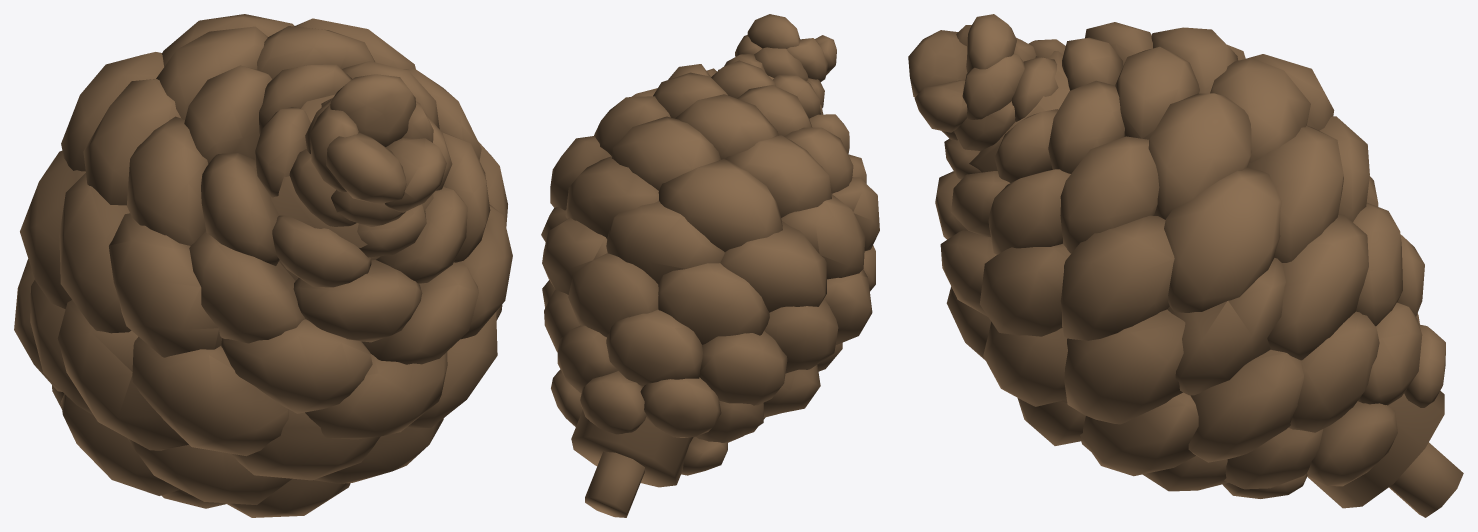
The model's file is pinecone_0.glb.
3 renders of one model, left to right at view 1: azimuth 30°, elevation 25°; view 2: azimuth 150°, elevation 25°; view 3: azimuth 270°, elevation 25°, orthographic. The views are drawn at different scales.
Parts seen in each view (by area): view 1: pinecone_0; view 2: pinecone_0; view 3: pinecone_0.
Boxes of the visible parts, bbox=[...] form: pinecone_0: bbox=[14, 14, 512, 517]; pinecone_0: bbox=[541, 14, 879, 517]; pinecone_0: bbox=[908, 14, 1463, 517].
Size of the model in its own units: 0.0522 by 0.0645 by 0.0654.
